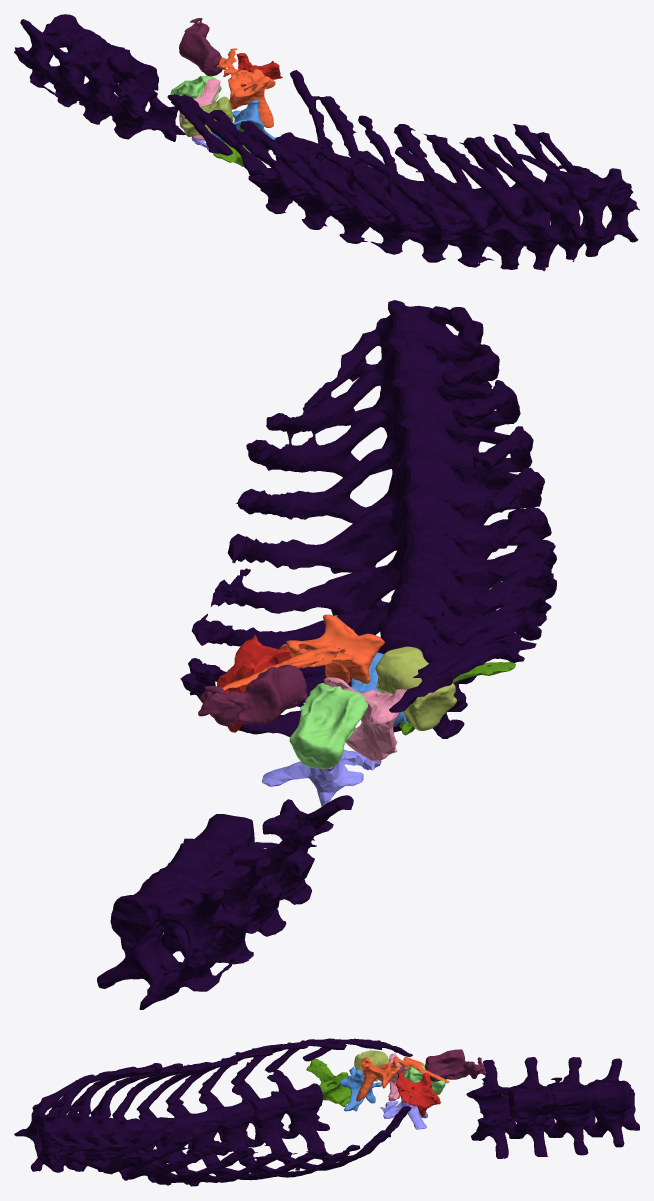
Rendered from dorsal_spine.glb.
The picture shows the model from 3 angles, top to bottom: view 1: azimuth 30°, elevation 25°; view 2: azimuth 150°, elevation 25°; view 3: azimuth 270°, elevation 25°; orthographic projection. The views are drawn at different scales.
Visible parts, largest first — view 1: Shape_IndexedFaceSet.009, Shape_IndexedFaceSet.005, Shape_IndexedFaceSet.007, Shape_IndexedFaceSet.004, Shape_IndexedFaceSet.008, Shape_IndexedFaceSet.006, Shape_IndexedFaceSet.002, Shape_IndexedFaceSet.003; view 2: Shape_IndexedFaceSet.009, Shape_IndexedFaceSet.006, Shape_IndexedFaceSet.007, Shape_IndexedFaceSet.005, Shape_IndexedFaceSet.008, Shape_IndexedFaceSet.003, Shape_IndexedFaceSet.001, Shape_IndexedFaceSet.002; view 3: Shape_IndexedFaceSet.009, Shape_IndexedFaceSet.007, Shape_IndexedFaceSet.005, Shape_IndexedFaceSet.002, Shape_IndexedFaceSet, Shape_IndexedFaceSet.004, Shape_IndexedFaceSet.001, Shape_IndexedFaceSet.008, Shape_IndexedFaceSet.006, Shape_IndexedFaceSet.003.
Part boxes in pixels (x1=…): Shape_IndexedFaceSet.009: x1=14, y1=14, x2=639, y2=271; Shape_IndexedFaceSet.005: x1=216, y1=48, x2=275, y2=127; Shape_IndexedFaceSet.007: x1=179, y1=18, x2=222, y2=76; Shape_IndexedFaceSet.004: x1=212, y1=100, x2=275, y2=142; Shape_IndexedFaceSet.008: x1=180, y1=96, x2=233, y2=136; Shape_IndexedFaceSet.006: x1=170, y1=75, x2=221, y2=104; Shape_IndexedFaceSet.002: x1=236, y1=53, x2=282, y2=87; Shape_IndexedFaceSet.003: x1=179, y1=79, x2=220, y2=139; Shape_IndexedFaceSet.009: x1=97, y1=300, x2=556, y2=1009; Shape_IndexedFaceSet.006: x1=289, y1=683, x2=368, y2=768; Shape_IndexedFaceSet.007: x1=198, y1=665, x2=307, y2=728; Shape_IndexedFaceSet.005: x1=222, y1=614, x2=384, y2=690; Shape_IndexedFaceSet.008: x1=375, y1=646, x2=456, y2=730; Shape_IndexedFaceSet.003: x1=323, y1=677, x2=412, y2=761; Shape_IndexedFaceSet.001: x1=262, y1=749, x2=381, y2=806; Shape_IndexedFaceSet.002: x1=209, y1=634, x2=291, y2=732; Shape_IndexedFaceSet.009: x1=14, y1=1038, x2=639, y2=1186; Shape_IndexedFaceSet.007: x1=424, y1=1049, x2=486, y2=1081; Shape_IndexedFaceSet.005: x1=356, y1=1056, x2=449, y2=1101; Shape_IndexedFaceSet.002: x1=395, y1=1072, x2=440, y2=1116; Shape_IndexedFaceSet: x1=306, y1=1059, x2=350, y2=1106; Shape_IndexedFaceSet.004: x1=339, y1=1066, x2=381, y2=1111; Shape_IndexedFaceSet.001: x1=380, y1=1094, x2=428, y2=1129; Shape_IndexedFaceSet.008: x1=354, y1=1050, x2=389, y2=1081; Shape_IndexedFaceSet.006: x1=404, y1=1062, x2=446, y2=1094; Shape_IndexedFaceSet.003: x1=377, y1=1053, x2=408, y2=1101.
Size of the model in its own units: 0.026 by 0.0135 by 0.0638.
